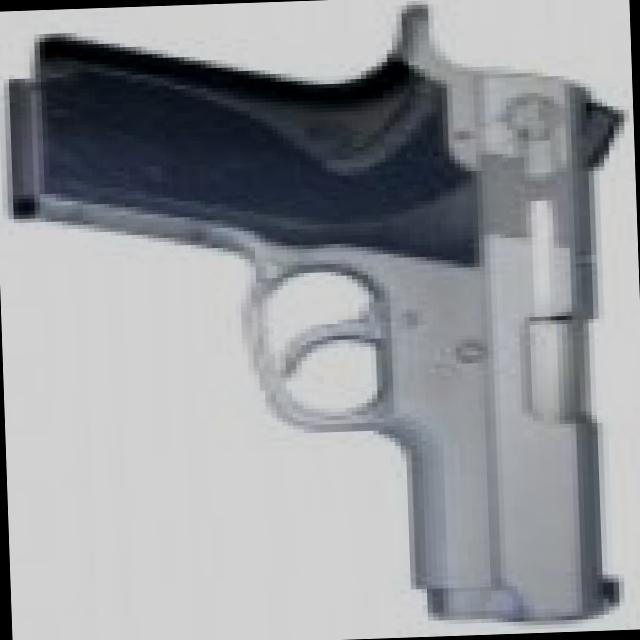handgun: (22, 0, 639, 631)
